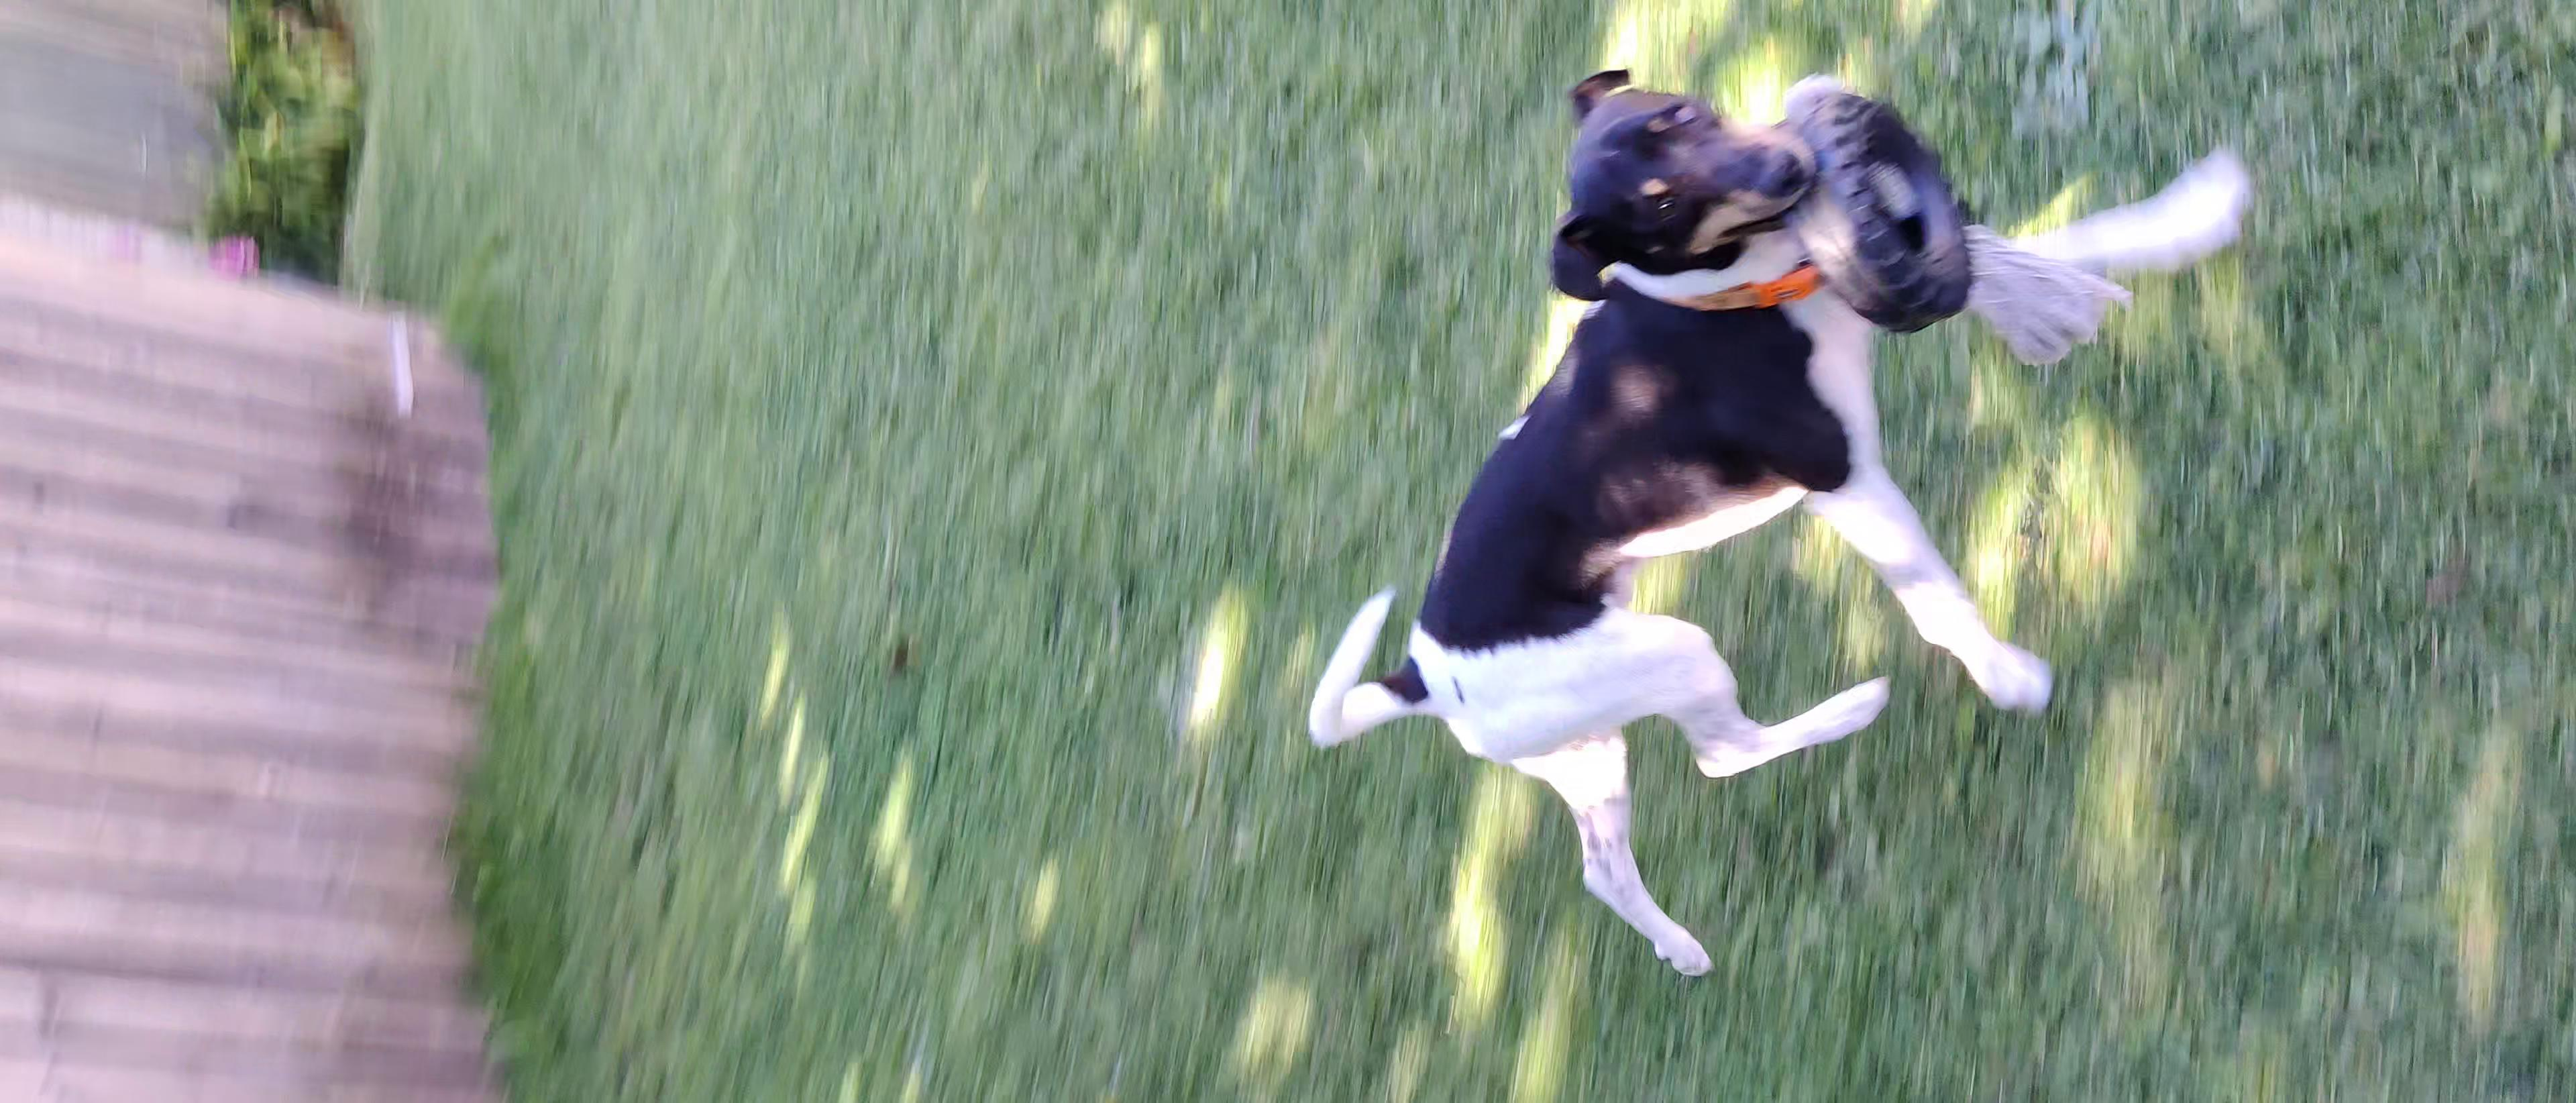Dog: (1298, 49, 2261, 990)
